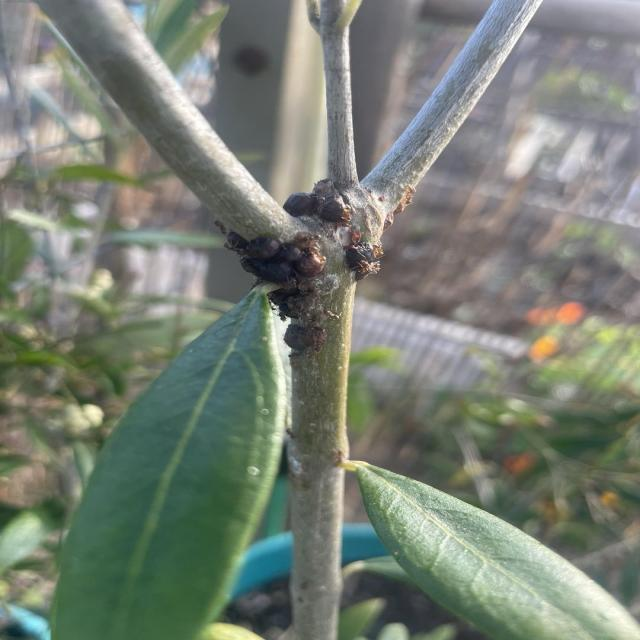Black Scale: (216, 221, 326, 354), (283, 179, 354, 226), (345, 240, 383, 281)
Healthy: (346, 461, 639, 640)
